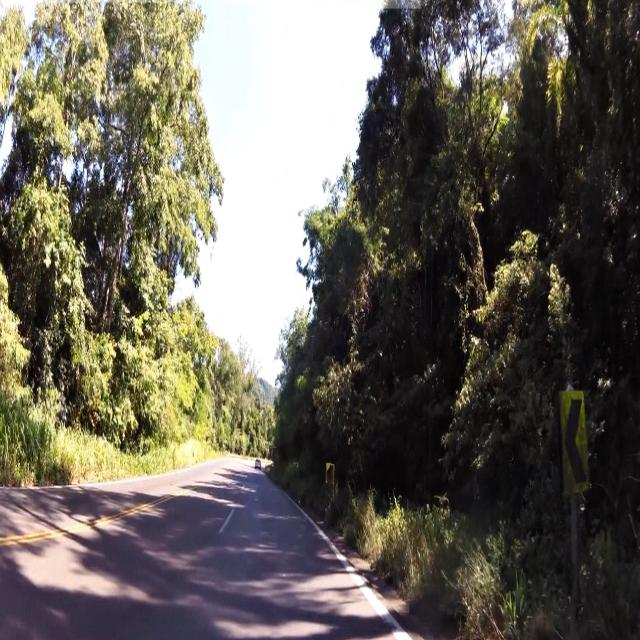Del: (560, 387, 591, 494)
